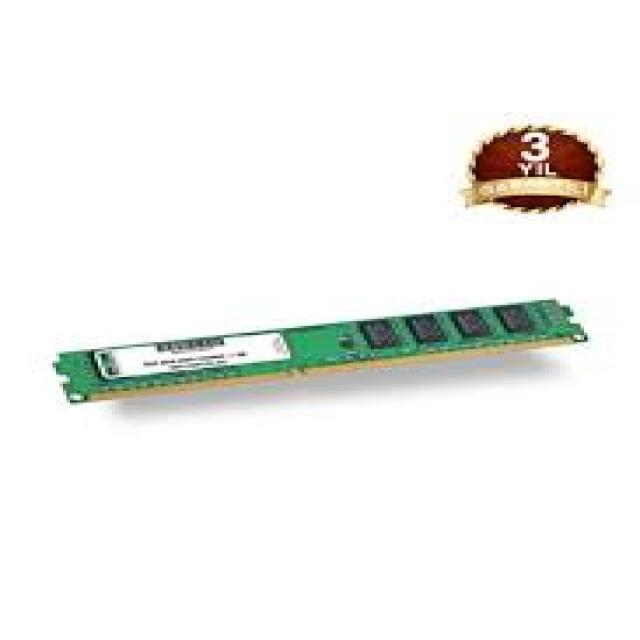Ram: (68, 259, 640, 463)
